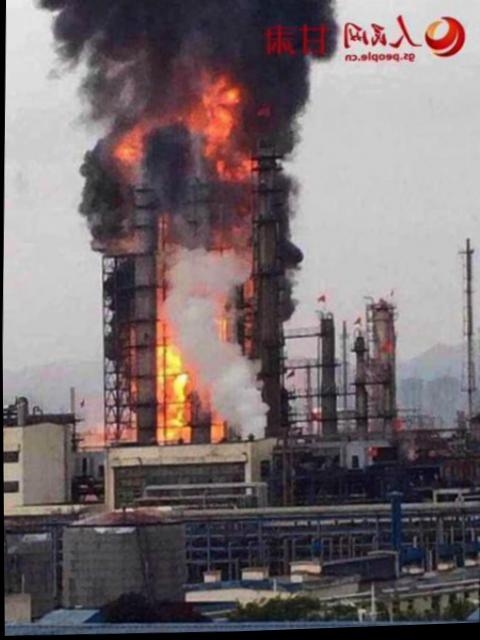fire: (156, 348, 188, 442), (200, 106, 229, 152), (204, 76, 241, 108), (214, 159, 255, 181), (114, 134, 144, 159)
